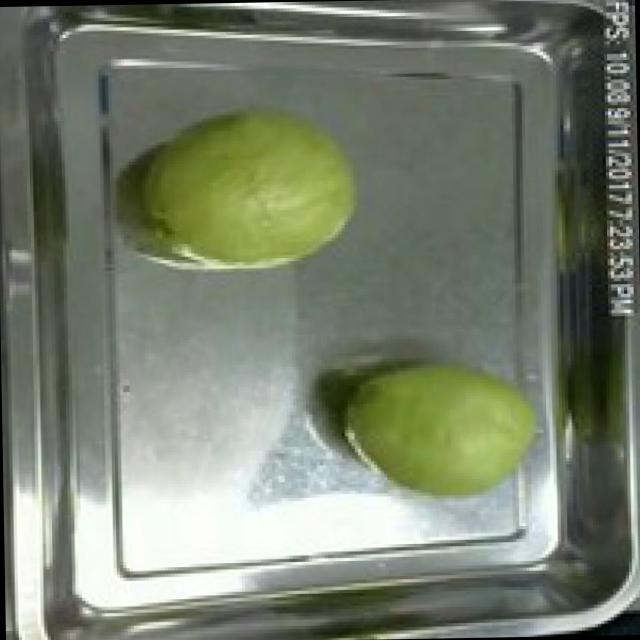Fruit: (134, 95, 370, 288), (330, 345, 554, 512)
